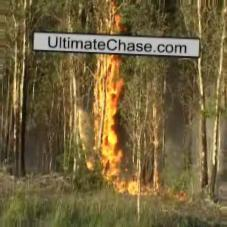fire: (92, 1, 140, 192)
